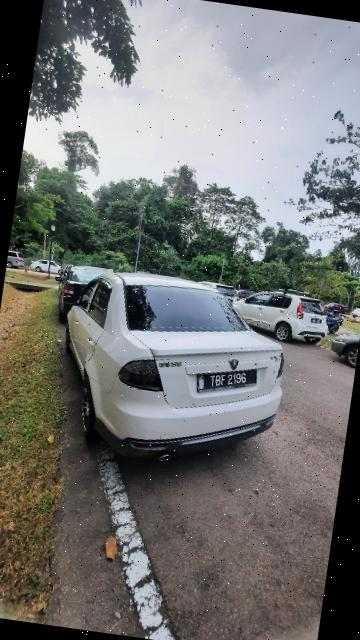License_Plate: (191, 357, 262, 401)
car: (47, 258, 299, 484), (221, 276, 335, 353)
